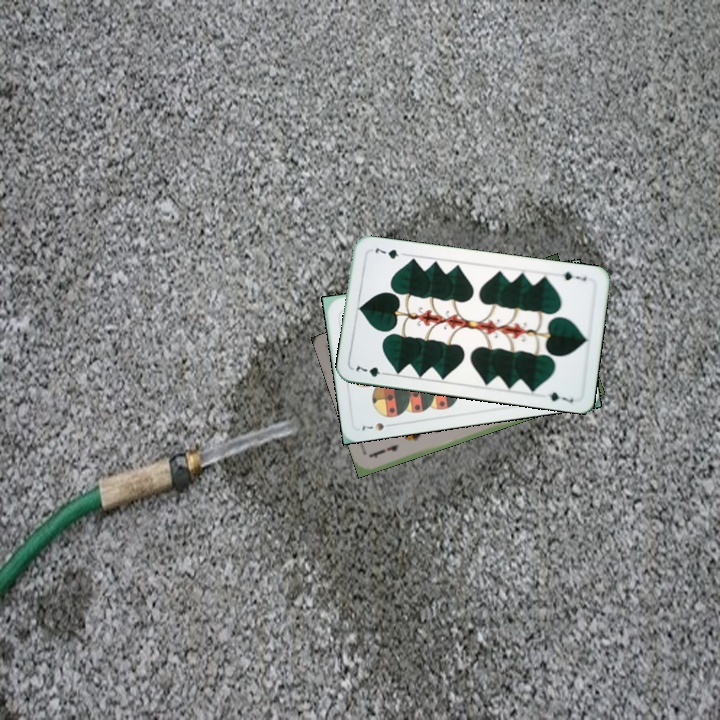E7: (366, 440, 401, 460)
G7: (352, 360, 391, 379), (559, 268, 589, 283)
S7: (358, 419, 397, 433)
